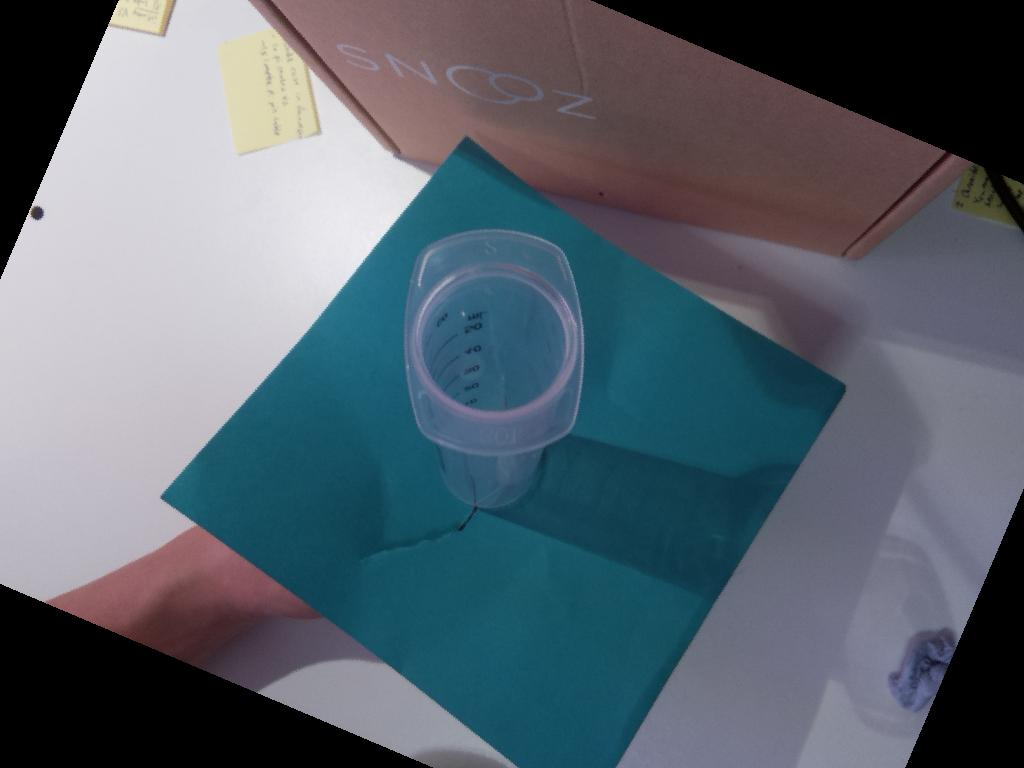clean: (400, 226, 586, 458)
